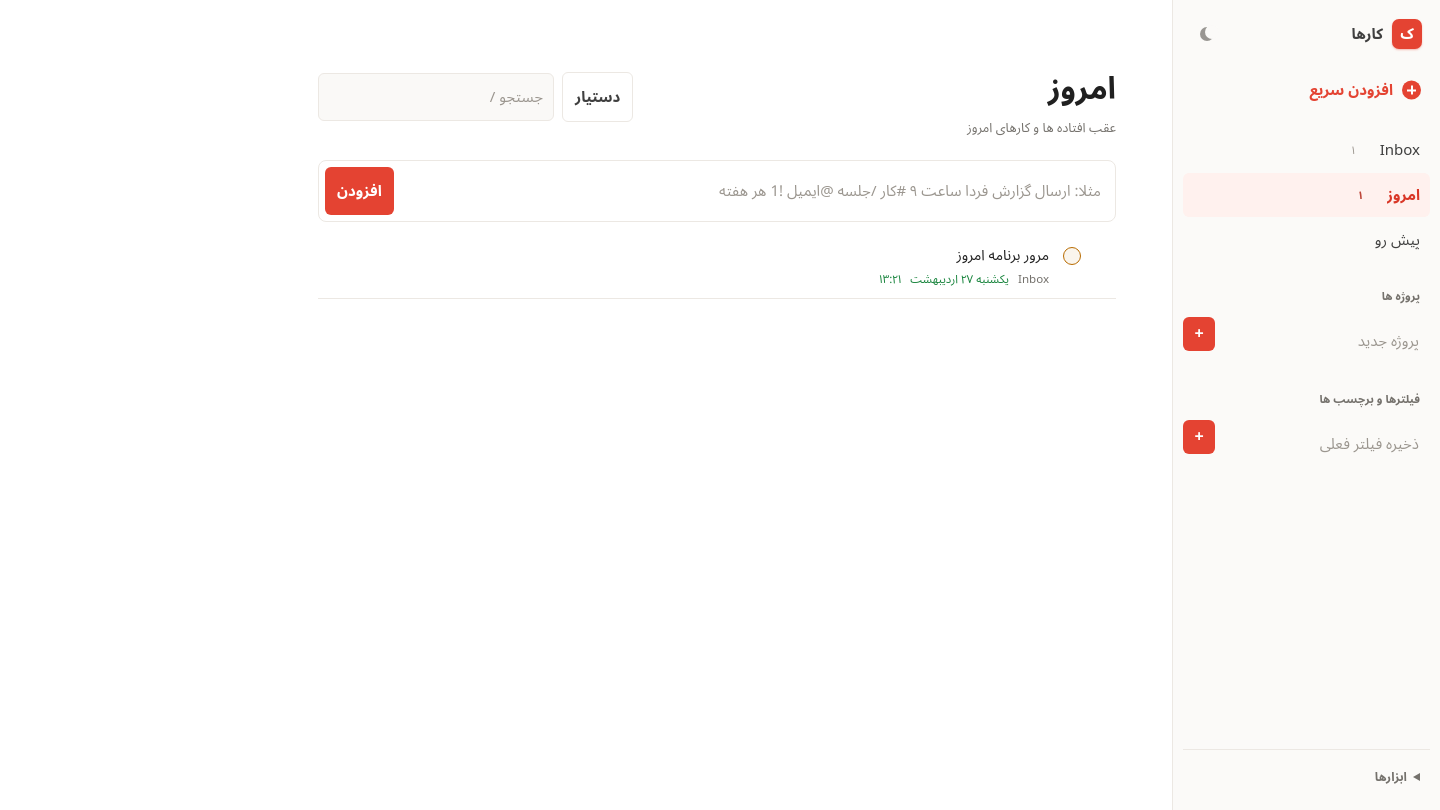
Test: App › shows the assistant Ollama error and disables sending
What coordinates should you click on to do the following:
click the button "دستیار"
I would click on:
 (598, 97)
Its box is [562,72,633,122].
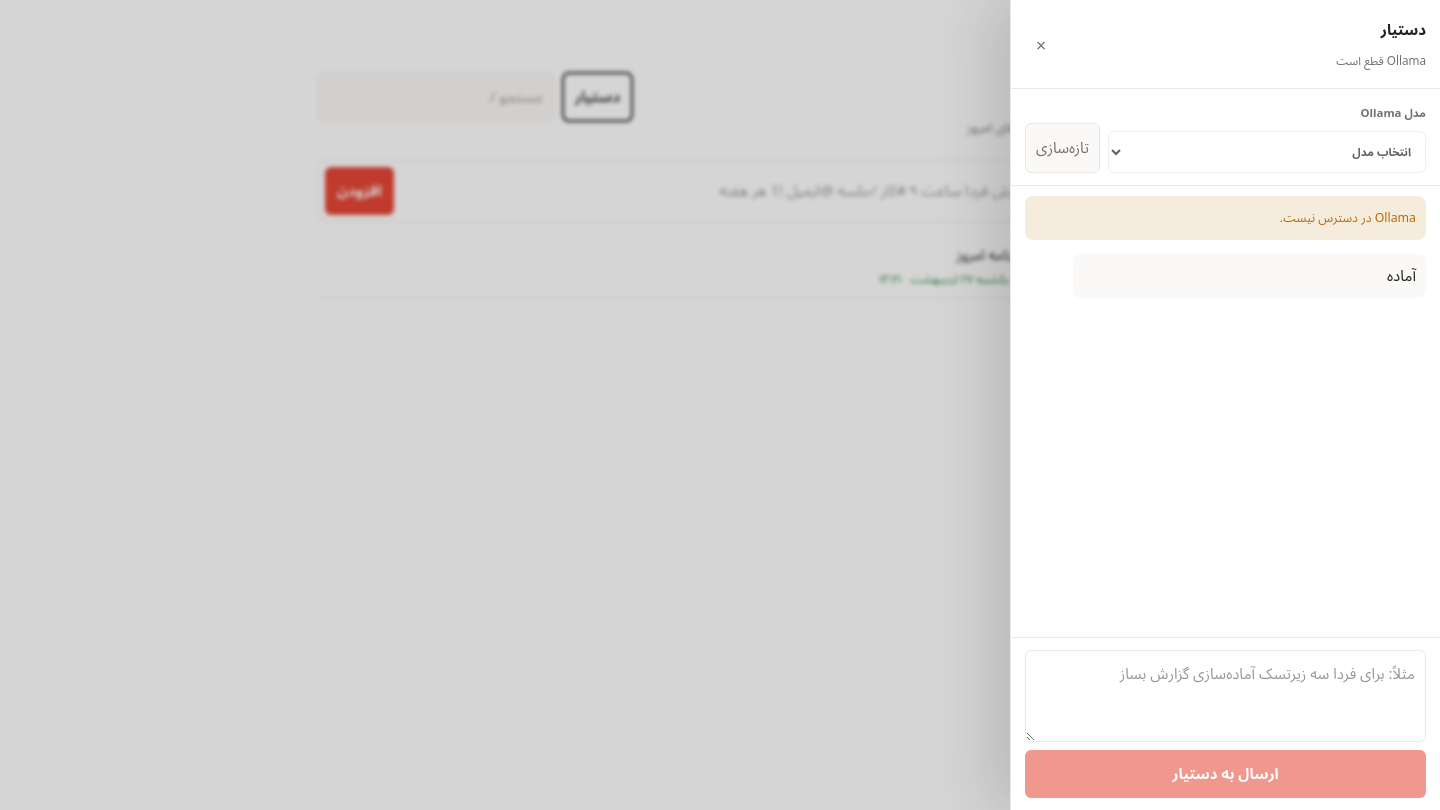
Expected: the text "Ollama قطع است" is shown, [1336,49,1426,74]
Expected: the text "Ollama در دسترس نیست." is shown, [1025,196,1426,240]
Expected: the button "ارسال به دستیار" is disabled, [1025,750,1426,798]
